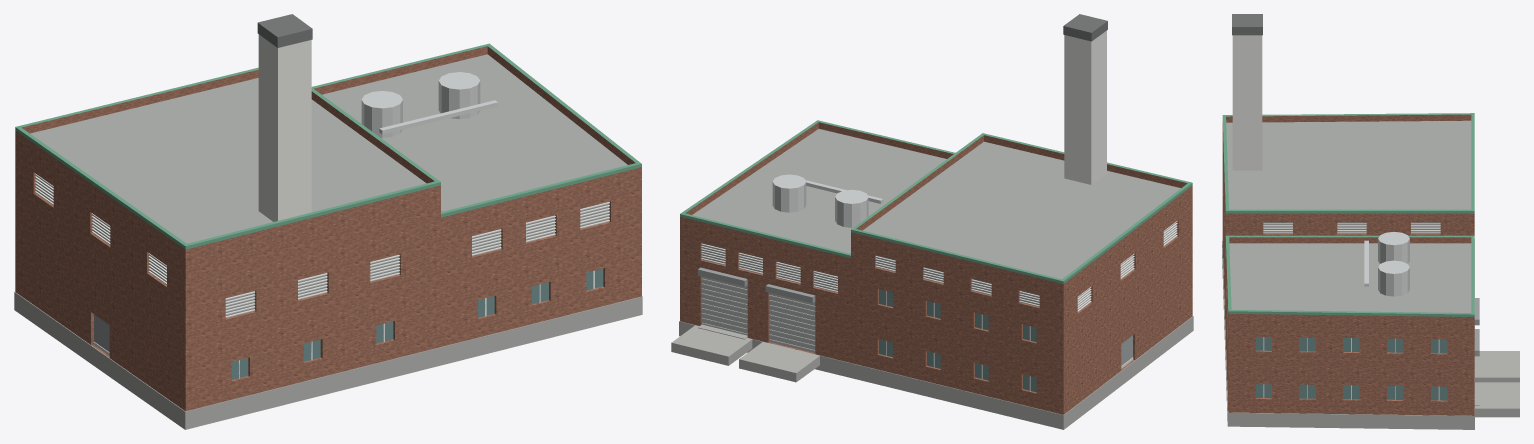
3 renders of one model, left to right at view 1: azimuth 30°, elevation 25°; view 2: azimuth 150°, elevation 25°; view 3: azimuth 270°, elevation 25°, orthographic. The views are drawn at different scales.
Visible parts, largest first — view 1: N8 red brick, N8 grey roof, N8 concrete base, N8 white concrete chimney, N8 green roof edge, N8 white window surrounds, N8 rooftop cooling units, N8 grey louvre panels, N8 grey green glass, N8 dark chimney top band; view 2: N8 red brick, N8 grey roof, N8 concrete base, N8 white concrete chimney, N8 white window surrounds, N8 green roof edge, N8 grey steel roller shutters, N8 grey louvre panels, N8 rooftop cooling units, N8 grey green glass, N8 dark chimney top band; view 3: N8 grey roof, N8 red brick, N8 concrete base, N8 green roof edge, N8 white concrete chimney, N8 grey green glass, N8 rooftop cooling units, N8 grey louvre panels, N8 white window surrounds, N8 dark chimney top band.
Part boxes in pixels (x1,y1,x2,y2): N8 red brick: [15, 46, 641, 411]; N8 grey roof: [30, 54, 627, 243]; N8 concrete base: [14, 291, 642, 429]; N8 white concrete chimney: [258, 34, 311, 221]; N8 green roof edge: [15, 43, 641, 249]; N8 white window surrounds: [35, 173, 609, 378]; N8 rooftop cooling units: [361, 72, 497, 137]; N8 grey louvre panels: [36, 176, 609, 317]; N8 grey green glass: [231, 268, 603, 379]; N8 dark chimney top band: [257, 14, 312, 47]; N8 red brick: [680, 122, 1192, 414]; N8 grey roof: [692, 129, 1180, 279]; N8 concrete base: [671, 316, 1193, 429]; N8 white concrete chimney: [1064, 30, 1106, 184]; N8 white window surrounds: [701, 220, 1177, 391]; N8 green roof edge: [680, 120, 1192, 283]; N8 grey steel roller shutters: [702, 276, 815, 352]; N8 grey louvre panels: [698, 223, 1176, 309]; N8 rooftop cooling units: [772, 174, 883, 227]; N8 grey green glass: [879, 289, 1036, 392]; N8 dark chimney top band: [1063, 14, 1107, 41]; N8 grey roof: [1226, 120, 1471, 312]; N8 red brick: [1222, 114, 1474, 415]; N8 concrete base: [1222, 239, 1519, 429]; N8 green roof edge: [1222, 113, 1474, 316]; N8 white concrete chimney: [1232, 35, 1262, 170]; N8 grey green glass: [1255, 336, 1447, 400]; N8 rooftop cooling units: [1364, 232, 1409, 296]; N8 grey louvre panels: [1263, 222, 1479, 356]; N8 white window surrounds: [1263, 223, 1440, 400]; N8 dark chimney top band: [1232, 14, 1262, 35].
Size of the model in its own units: 36.96 by 27 by 26.25.
12 materials, 1 textured.
